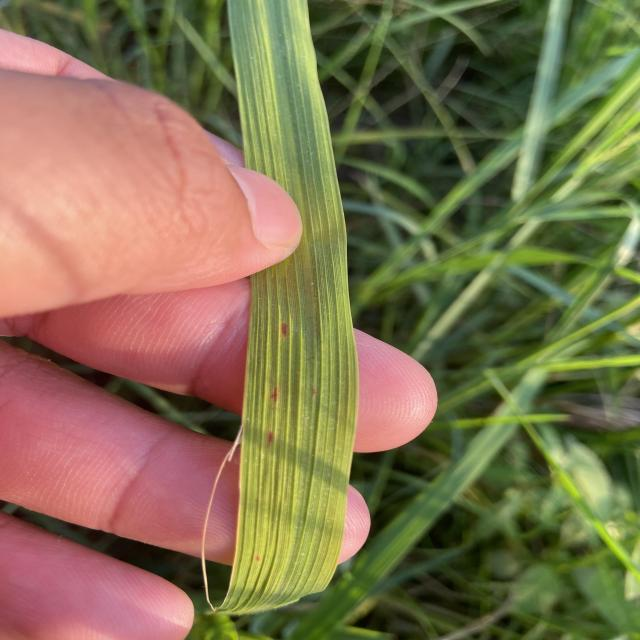Dom nau: (271, 386, 278, 403), (267, 430, 273, 447), (281, 323, 287, 338)
